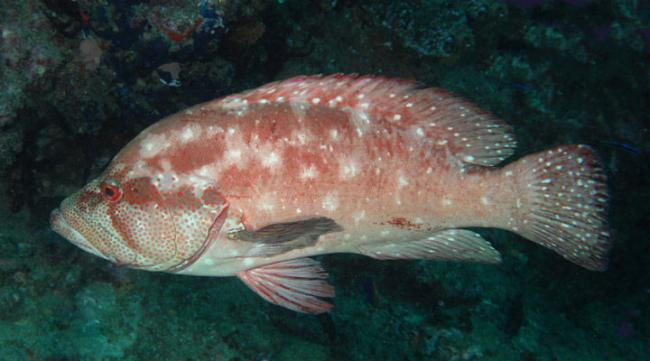fish: (46, 73, 610, 317)
